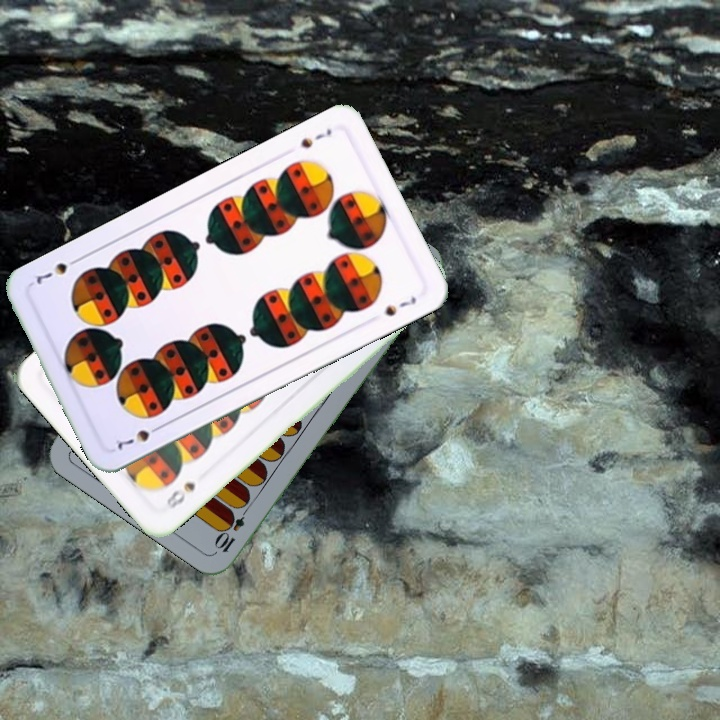E10: (212, 500, 253, 555)
S7: (109, 420, 166, 454), (296, 124, 335, 151)
S8: (162, 478, 198, 512)
